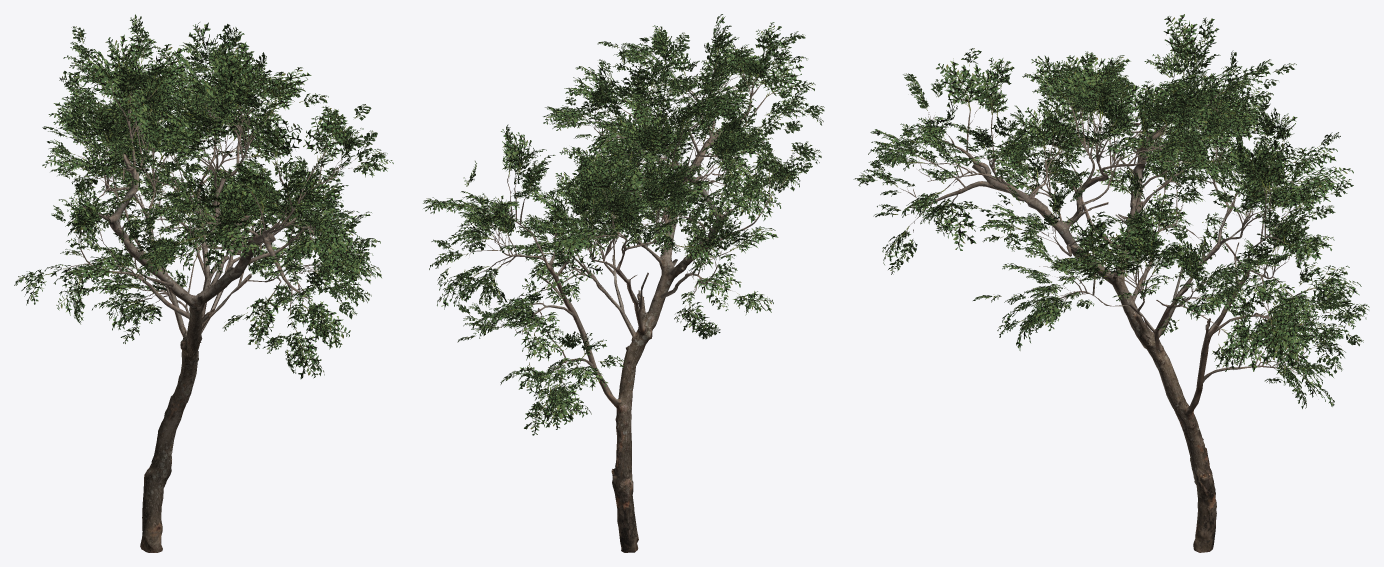
File: urbanTree.glb
3 views of the same model, side by side, from view 1: azimuth 30°, elevation 25°; view 2: azimuth 150°, elevation 25°; view 3: azimuth 270°, elevation 25° (orthographic). The views are drawn at different scales.
Visible parts, largest first — view 1: tree_small_02_LOD0; view 2: tree_small_02_LOD0; view 3: tree_small_02_LOD0.
Boxes of the visible parts, x1,y1,x2,y2 form: tree_small_02_LOD0: (14,14,393,552); tree_small_02_LOD0: (423,14,824,552); tree_small_02_LOD0: (853,14,1369,552).
Size of the model in its own units: 2.92 by 4.56 by 4.29.
Materials: 3 (3 with a texture image).
